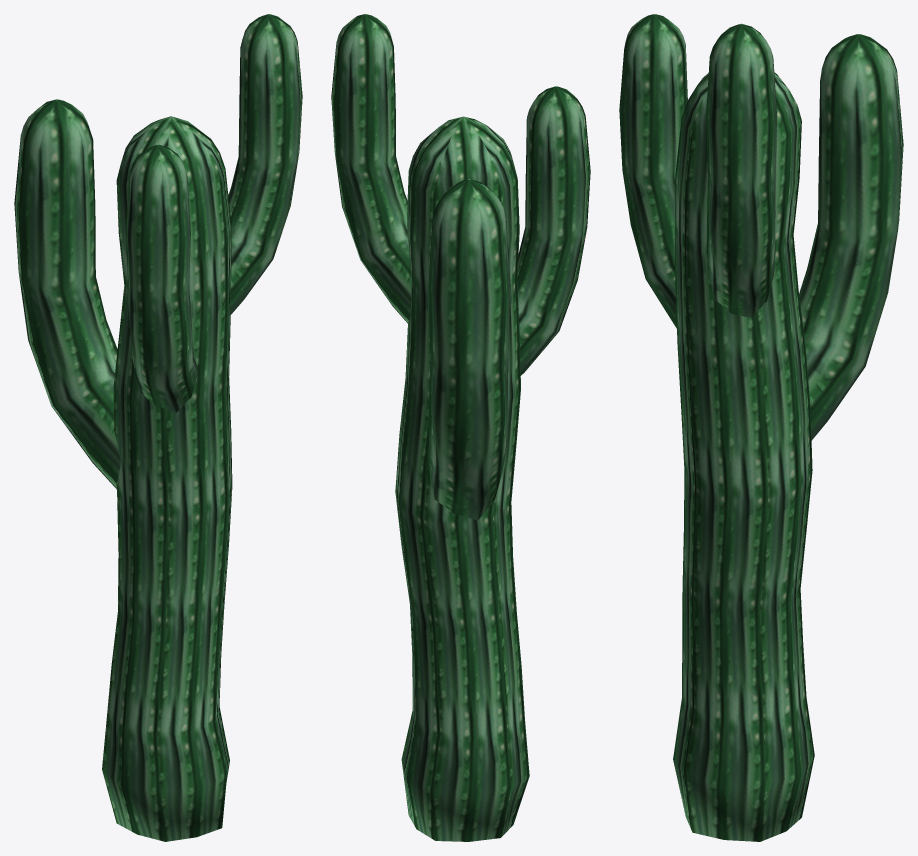
The model's file is cactus-04.fbx.
The picture shows the model from 3 angles, left to right: view 1: azimuth 30°, elevation 25°; view 2: azimuth 150°, elevation 25°; view 3: azimuth 270°, elevation 25°; orthographic projection. The views are drawn at different scales.
Visible parts, largest first — view 1: Cube.081_Cube.004_Cube.081_Cube.003; view 2: Cube.081_Cube.004_Cube.081_Cube.003; view 3: Cube.081_Cube.004_Cube.081_Cube.003.
Part boxes in pixels (x1,y1,x2,y2): Cube.081_Cube.004_Cube.081_Cube.003: [14, 14, 302, 841]; Cube.081_Cube.004_Cube.081_Cube.003: [331, 14, 590, 841]; Cube.081_Cube.004_Cube.081_Cube.003: [619, 14, 903, 841].
Size of the model in its own units: 0.686 by 2.3 by 0.6995.
